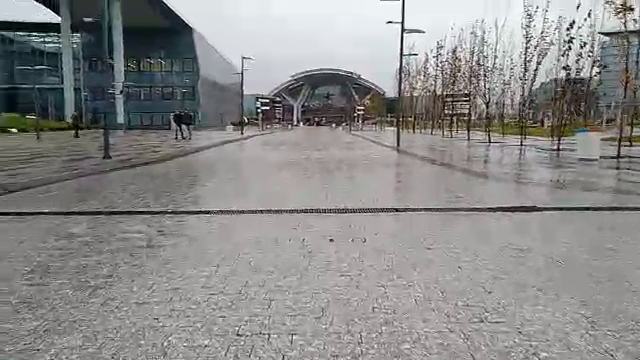mega: (262, 63, 394, 139)
